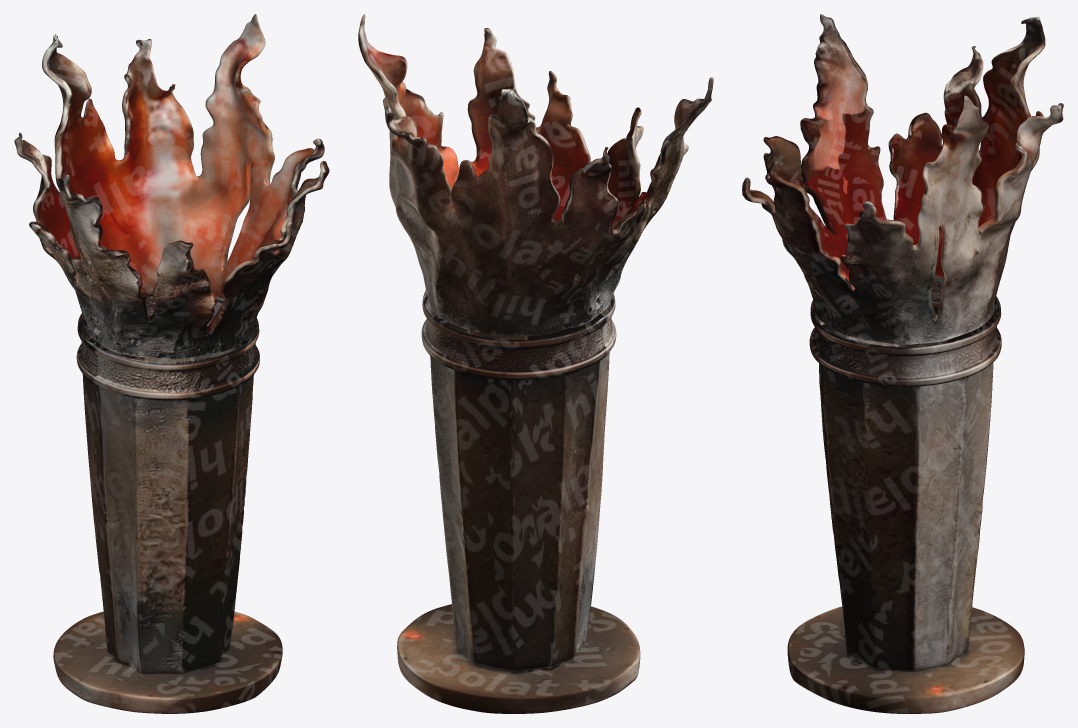
3 views of the same model, side by side, from view 1: azimuth 30°, elevation 25°; view 2: azimuth 150°, elevation 25°; view 3: azimuth 270°, elevation 25° (orthographic). The views are drawn at different scales.
Parts seen in each view (by area): view 1: tripo_node_e5aebacb-43a2-41b1-89a9-f6548e4e559b; view 2: tripo_node_e5aebacb-43a2-41b1-89a9-f6548e4e559b; view 3: tripo_node_e5aebacb-43a2-41b1-89a9-f6548e4e559b.
Boxes of the visible parts, x1,y1,x2,y2 form: tripo_node_e5aebacb-43a2-41b1-89a9-f6548e4e559b: (14, 14, 329, 713); tripo_node_e5aebacb-43a2-41b1-89a9-f6548e4e559b: (358, 14, 713, 713); tripo_node_e5aebacb-43a2-41b1-89a9-f6548e4e559b: (742, 14, 1063, 713).
Size of the model in its own units: 0.4821 by 0.9801 by 0.4542.
1 material, 1 textured.
